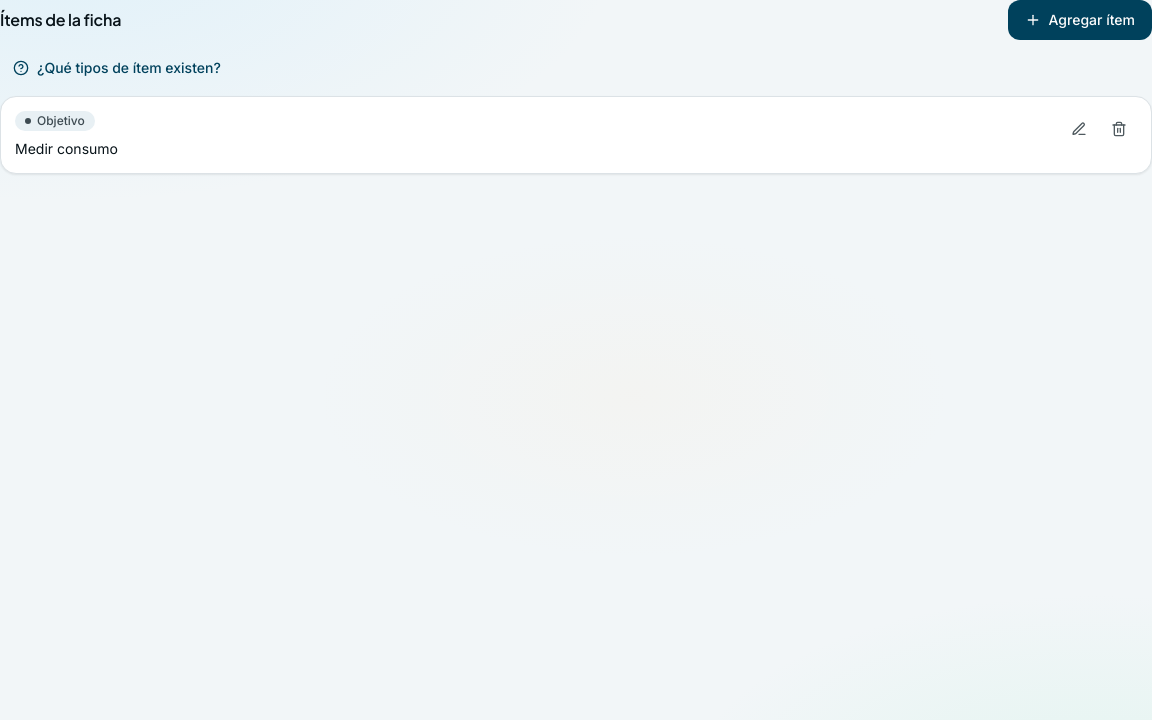
Test: ItemsMiFichaPanel › «Editar ítem» abre el panel con el contenido y guarda los cambios
The width and height of the screenshot is (1152, 720).
Click the button named "Editar ítem Objetivo" at (1079, 129), box [1061, 111, 1097, 147]
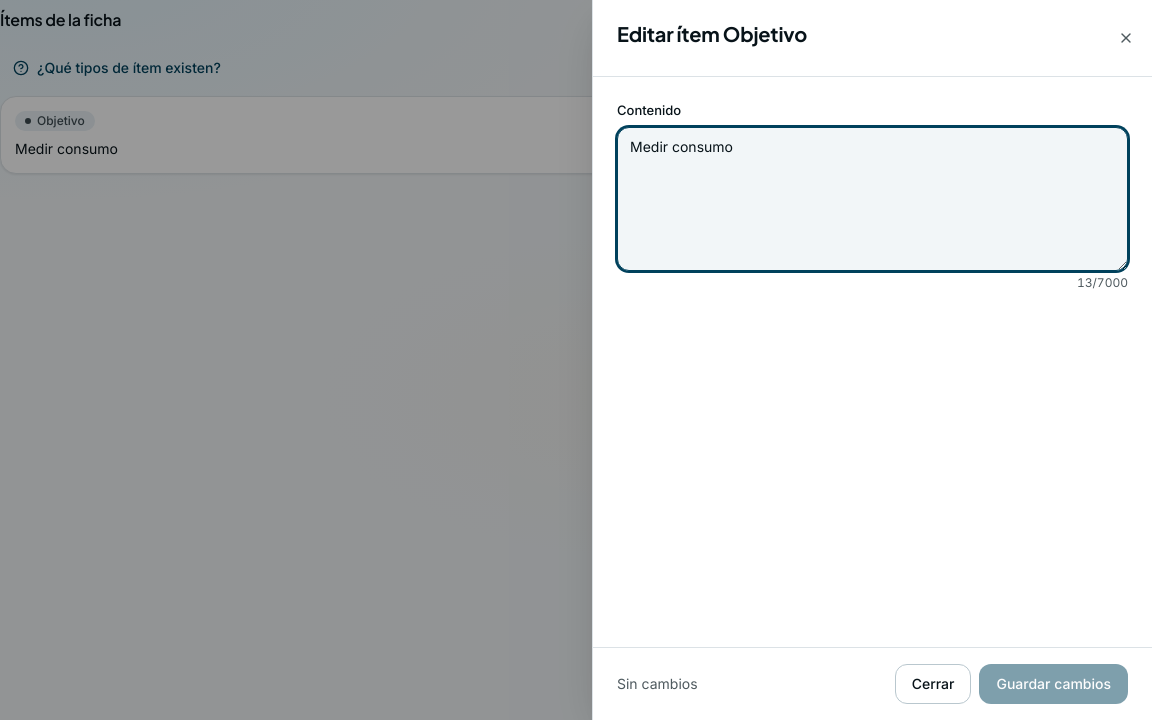
Type " mensual" into the text box labelled "Contenido" at (872, 198), box [617, 126, 1128, 270]
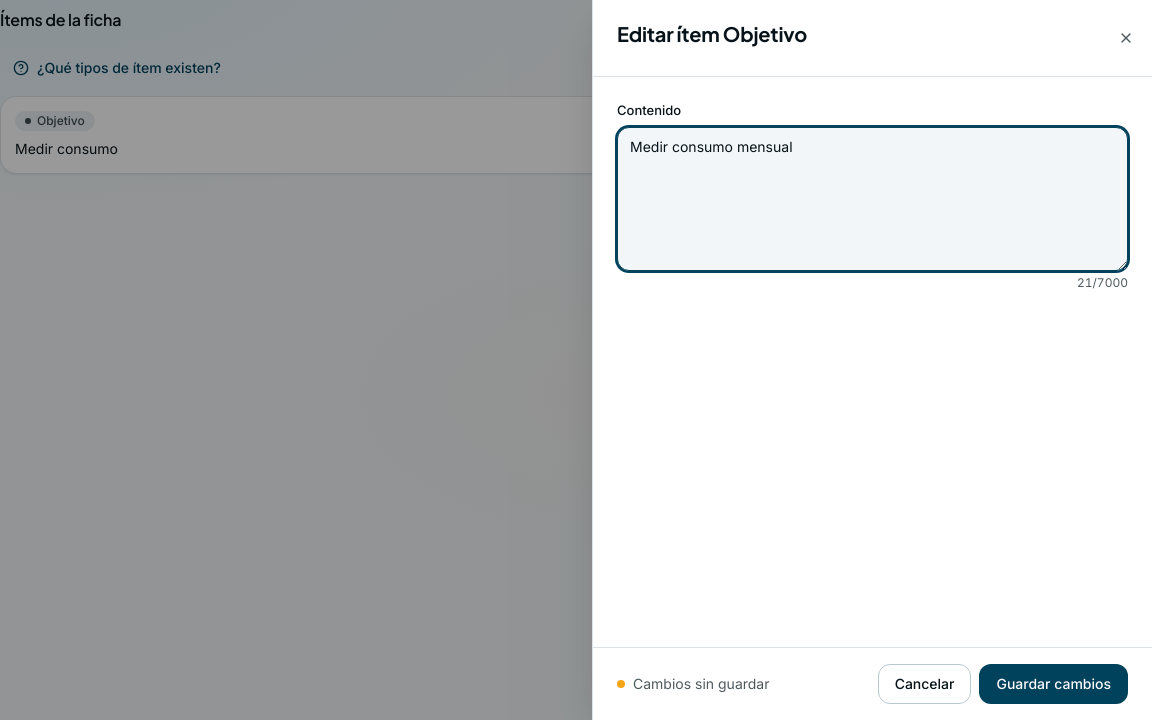
Click the button "Guardar cambios" at (1054, 684), box [980, 664, 1128, 704]
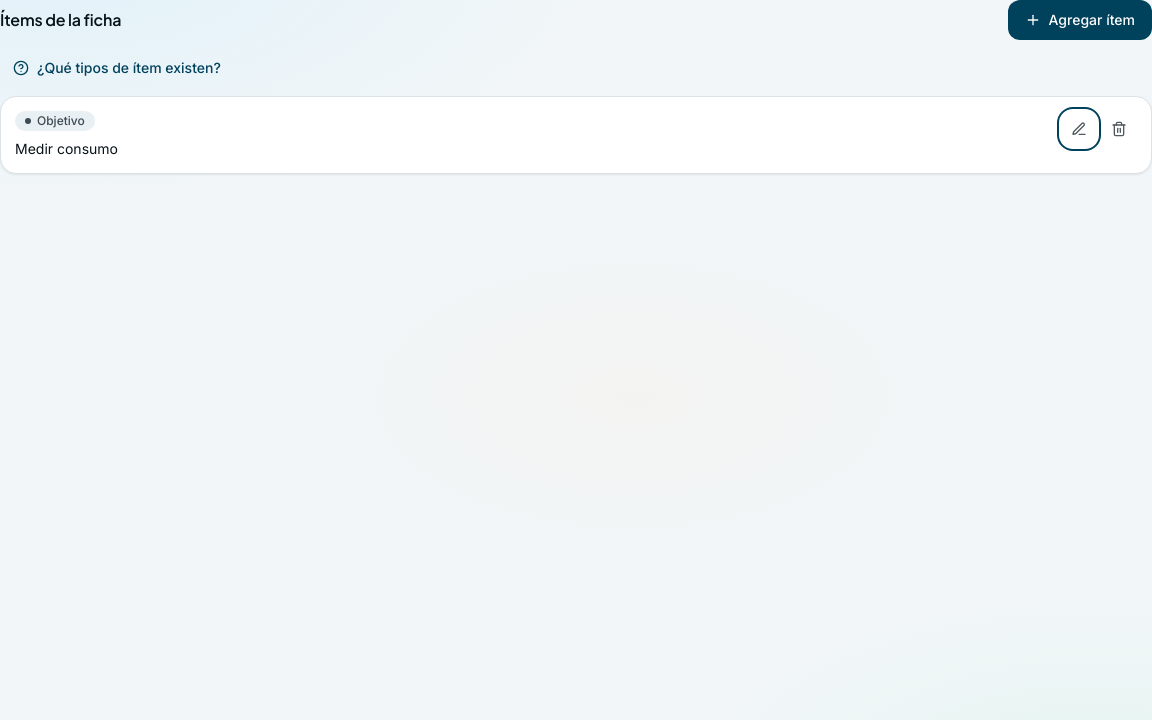
Expected: the dialog is gone
